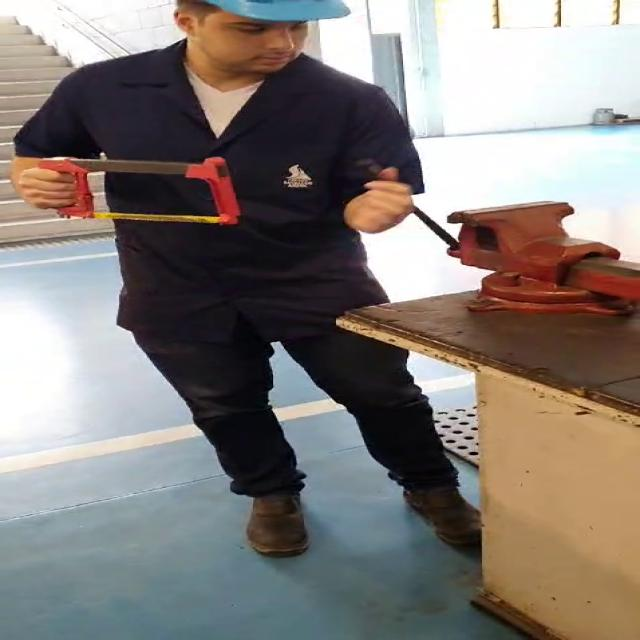sem_oculos: (201, 18, 322, 45)
